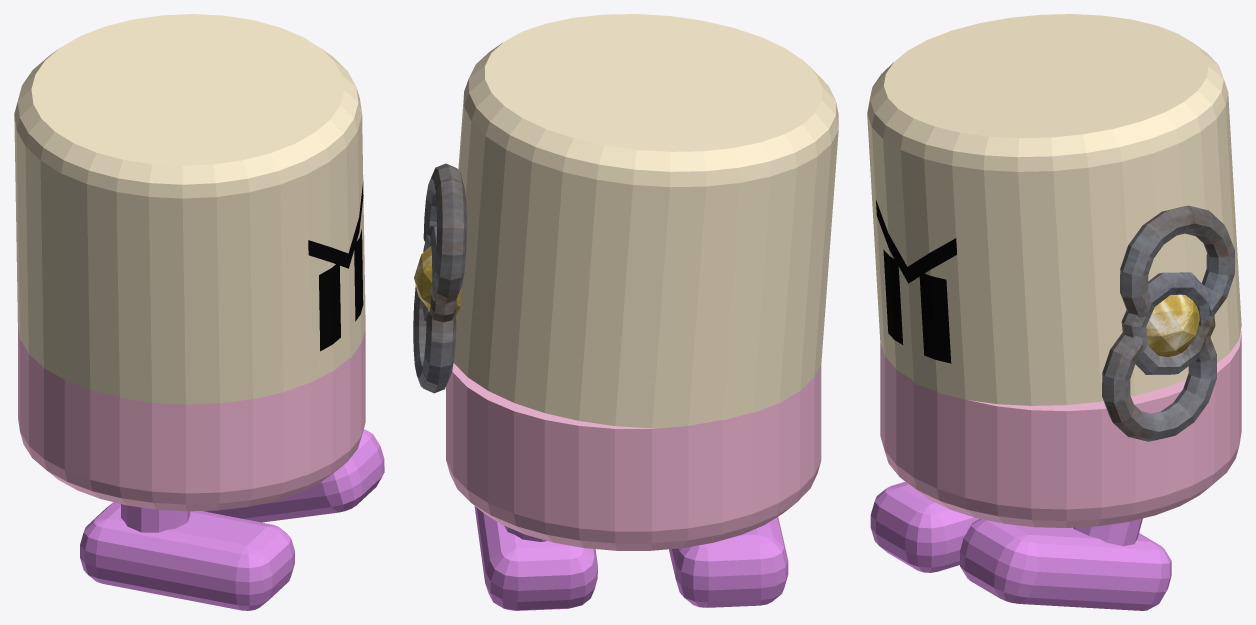
File: Toasters034.obj
3 renders of one model, left to right at view 1: azimuth 30°, elevation 25°; view 2: azimuth 150°, elevation 25°; view 3: azimuth 270°, elevation 25°, orthographic. The views are drawn at different scales.
Parts seen in each view (by area): view 1: Head, Jaw, RightLeg, LeftLeg; view 2: Head, Jaw, WindupKey, LeftLeg, RightLeg; view 3: Head, Jaw, WindupKey, LeftLeg, RightLeg.
Part boxes in pixels (box(x1,y1,x2,y2)): Head: box(14, 14, 365, 404); Jaw: box(18, 326, 365, 511); RightLeg: box(80, 502, 294, 610); LeftLeg: box(202, 429, 384, 522); Head: box(453, 14, 838, 428); Jaw: box(446, 363, 821, 550); WindupKey: box(413, 163, 466, 393); LeftLeg: box(474, 506, 597, 610); RightLeg: box(669, 517, 788, 607); Head: box(867, 14, 1241, 405); Jaw: box(880, 330, 1241, 527); WindupKey: box(1102, 205, 1234, 441); LeftLeg: box(959, 518, 1171, 610); RightLeg: box(870, 482, 979, 572).
Size of the model in its own units: 111 by 153 by 104.
6 materials, 2 textured.
